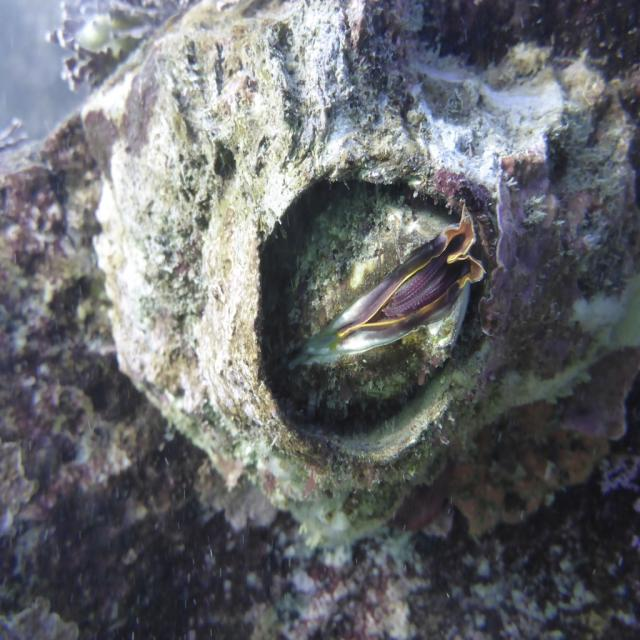barnacles: (86, 0, 637, 556)
